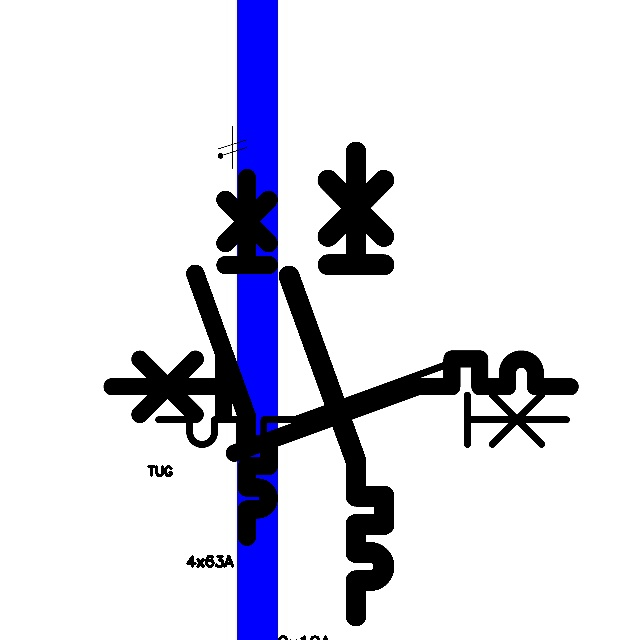interruptor_termomagnetico: (277, 140, 396, 628), (100, 347, 582, 465), (148, 350, 577, 455), (186, 168, 278, 546)
